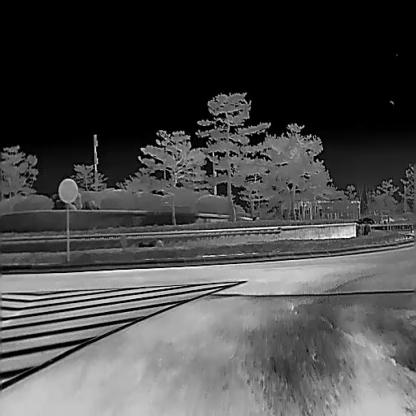car: (352, 217, 376, 223)
